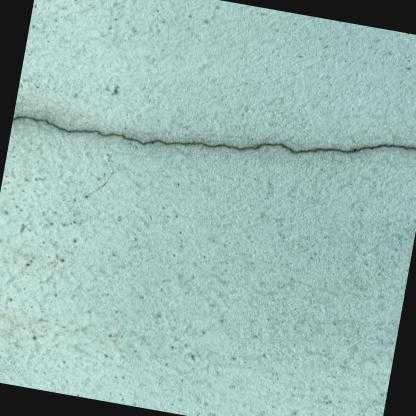crack: (12, 113, 416, 154)
